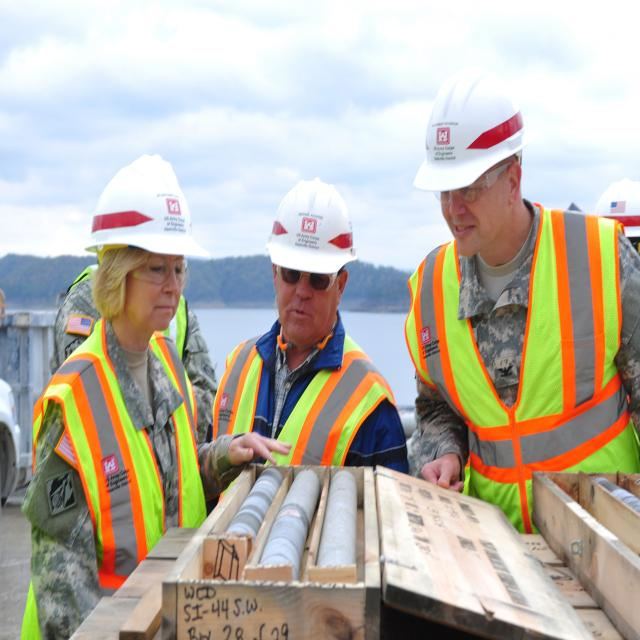goggles: (426, 152, 518, 208), (121, 256, 192, 287), (272, 264, 343, 292)
helmet: (411, 72, 526, 195), (83, 150, 198, 258), (265, 175, 358, 278)
vest: (411, 209, 640, 522), (39, 304, 206, 586), (225, 312, 398, 485)
